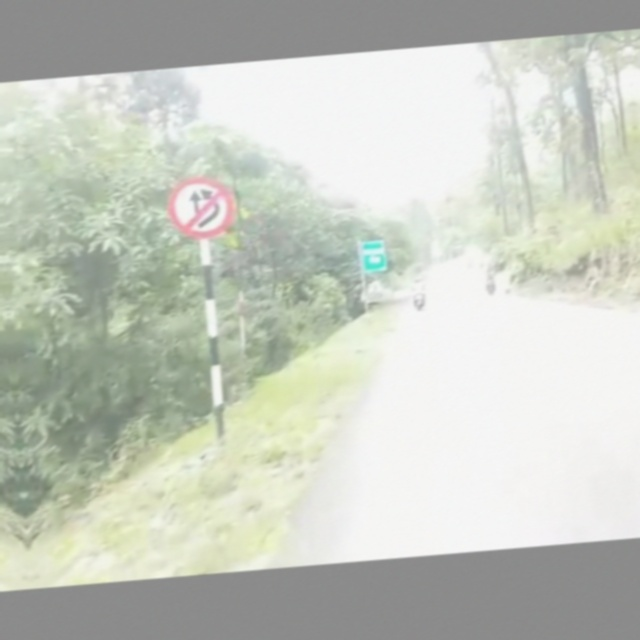Overtaking_Prohibited: (165, 174, 235, 240)
